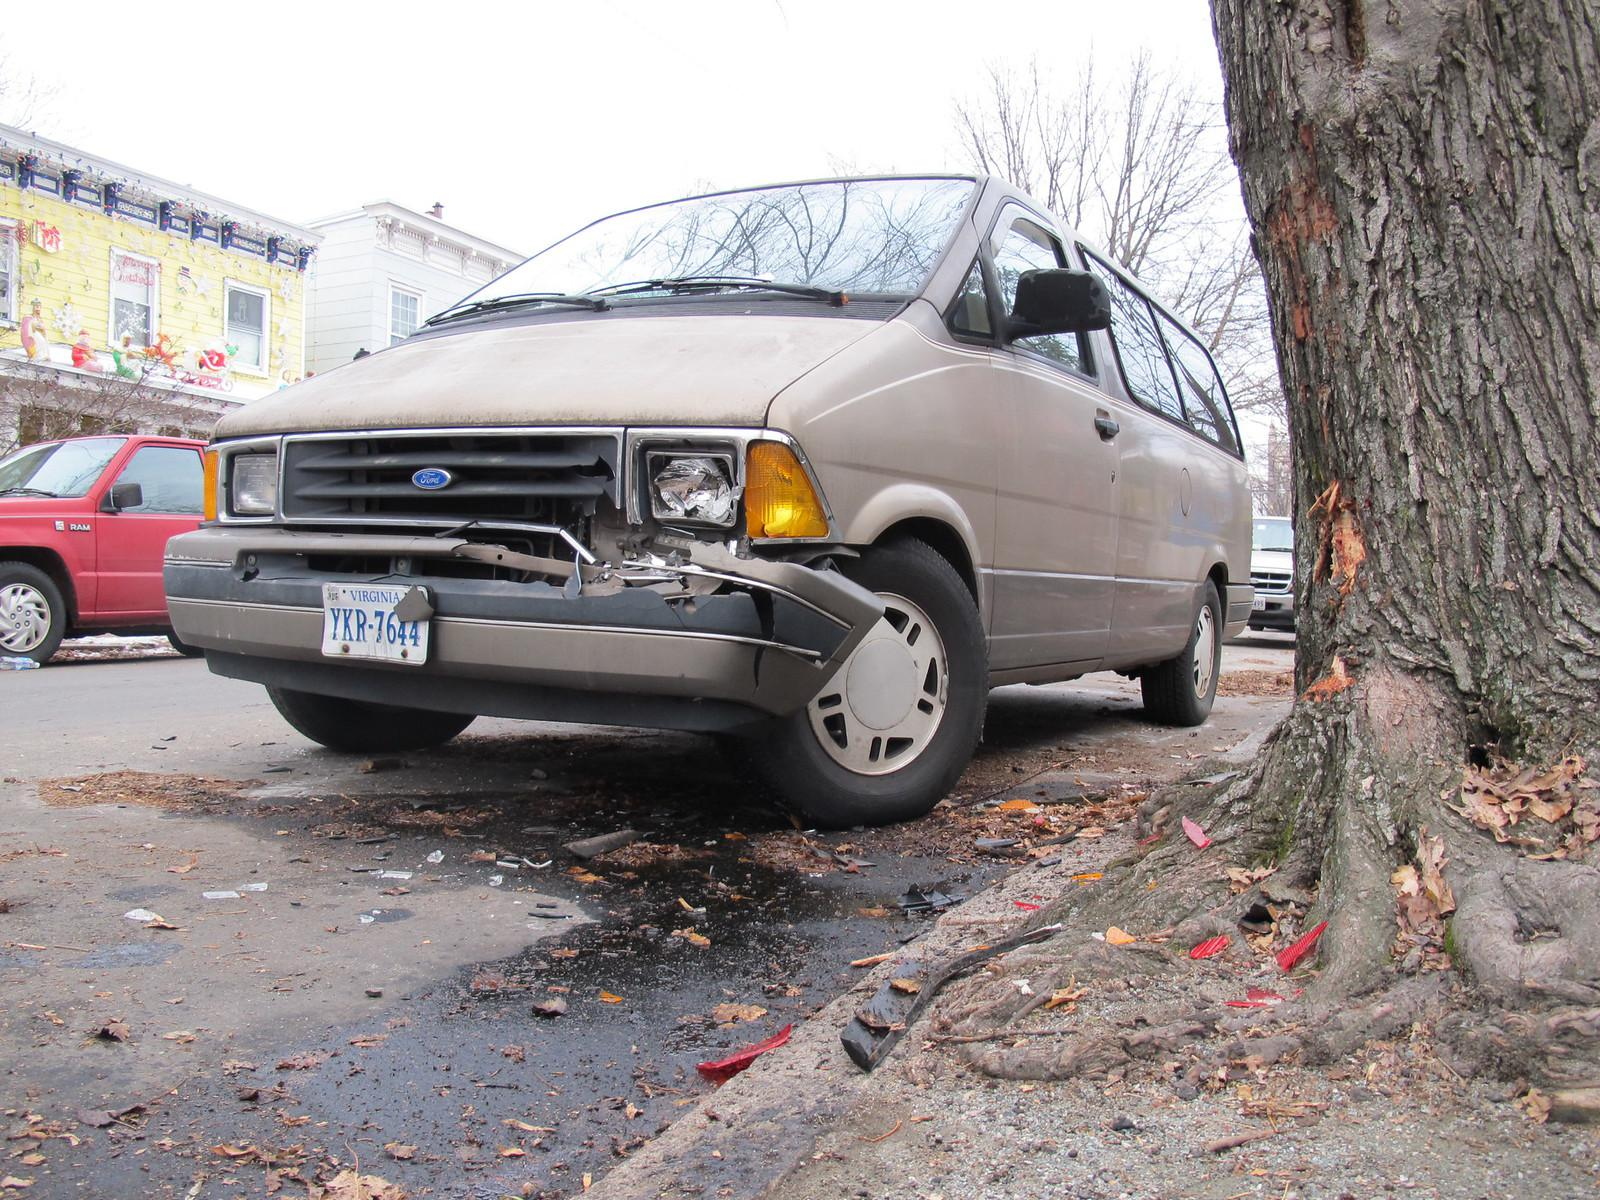Headlight-Damage: (588, 437, 784, 610)
